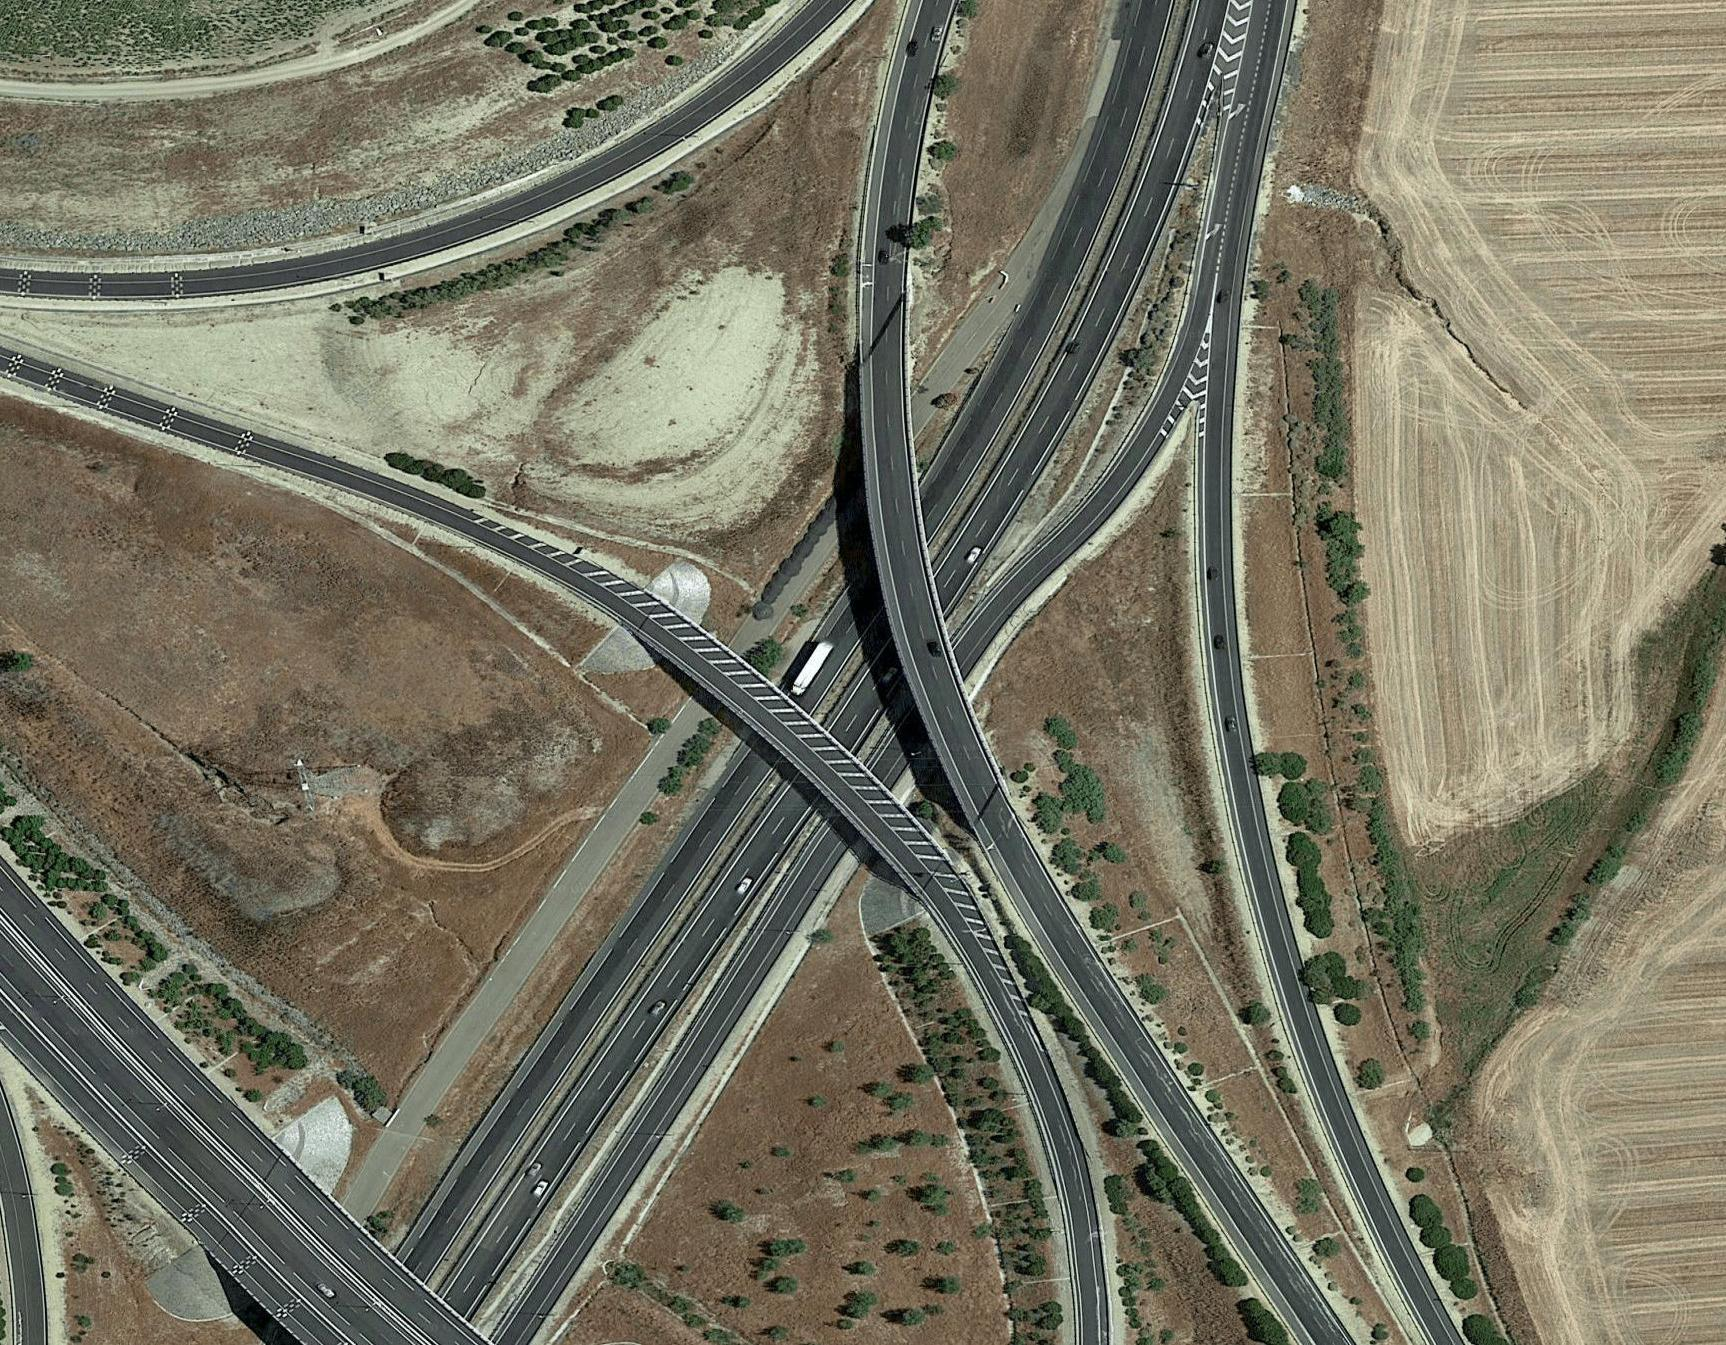bridge: (221, 1142, 537, 1345), (689, 614, 892, 871), (841, 518, 1030, 776)
